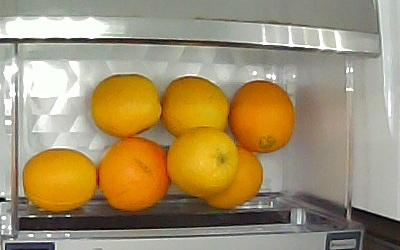orange: (96, 139, 171, 212), (22, 149, 97, 213), (167, 129, 239, 195), (231, 81, 295, 154), (90, 73, 162, 137), (161, 76, 229, 139), (202, 146, 263, 209)
